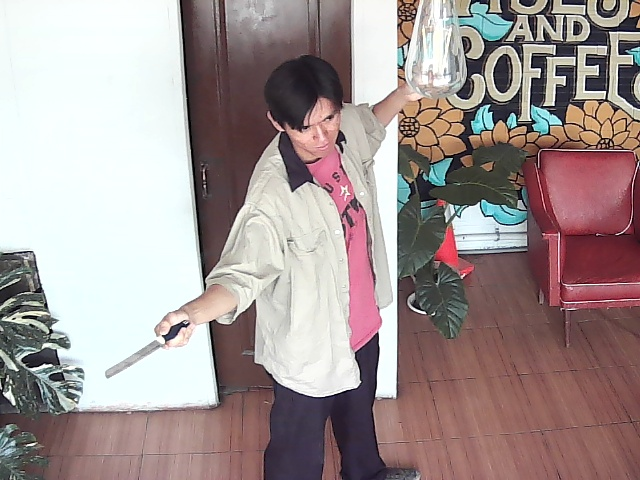cuchillo: (97, 303, 202, 386)
